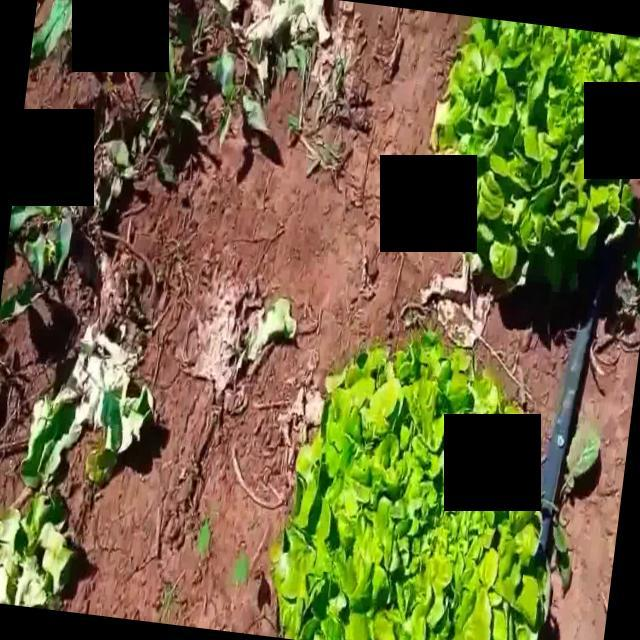Lettuce: (277, 330, 554, 640), (431, 20, 640, 288)
